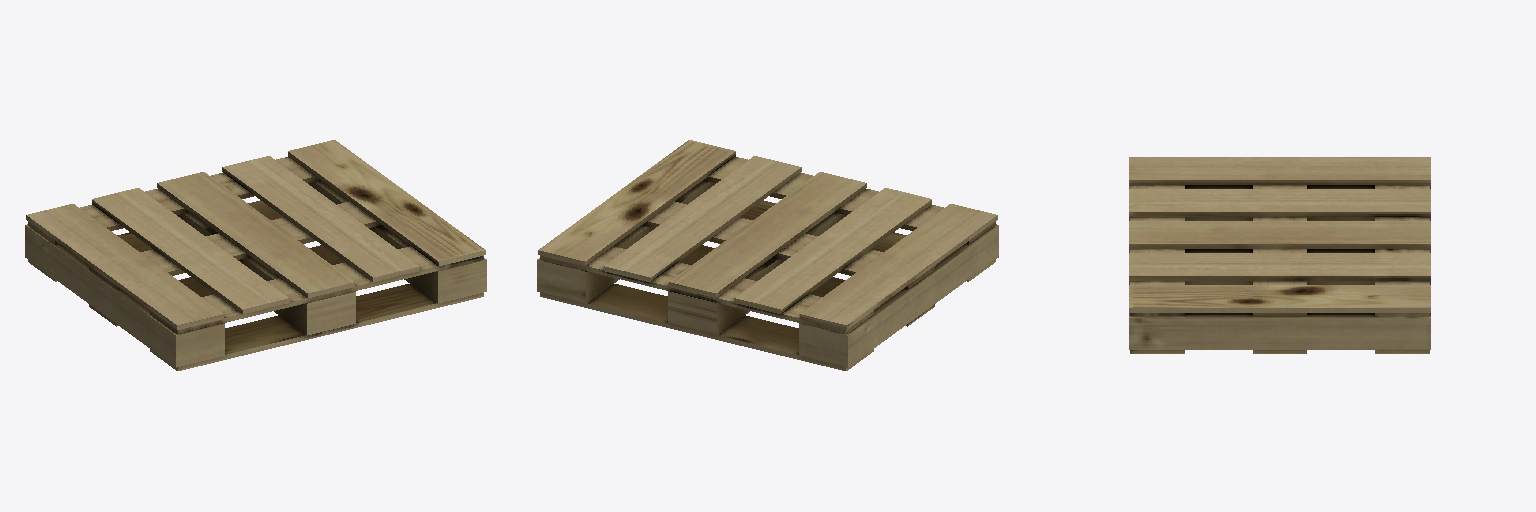
3 renders of one model, left to right at view 1: azimuth 30°, elevation 25°; view 2: azimuth 150°, elevation 25°; view 3: azimuth 270°, elevation 25°, orthographic.
Visible parts, largest first — view 1: pallet_piv; view 2: pallet_piv; view 3: pallet_piv.
Part boxes in pixels (x1,y1,x2,y2): pallet_piv: (25,140,486,370); pallet_piv: (537,140,998,370); pallet_piv: (1129,157,1430,353).
Size of the model in its own units: 132 by 19 by 111.
1 materials, 1 textured.